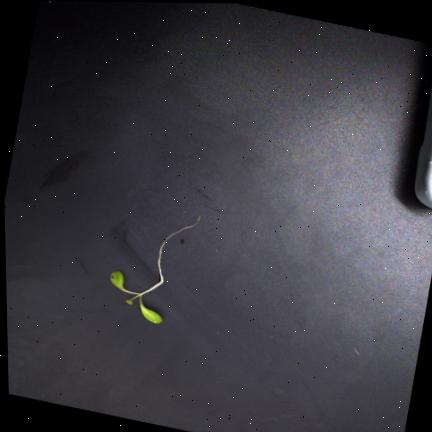leaf1: (110, 271, 123, 289)
leaf2: (140, 307, 161, 323)
leaf3: (124, 300, 132, 304)
root: (157, 216, 199, 271)
stem: (122, 272, 163, 306)
